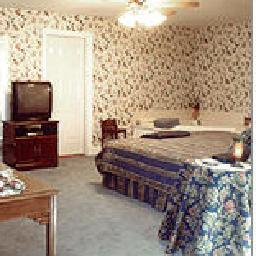Cama: (102, 130, 242, 185), (1, 169, 58, 254)
Puerta: (45, 36, 83, 152)
